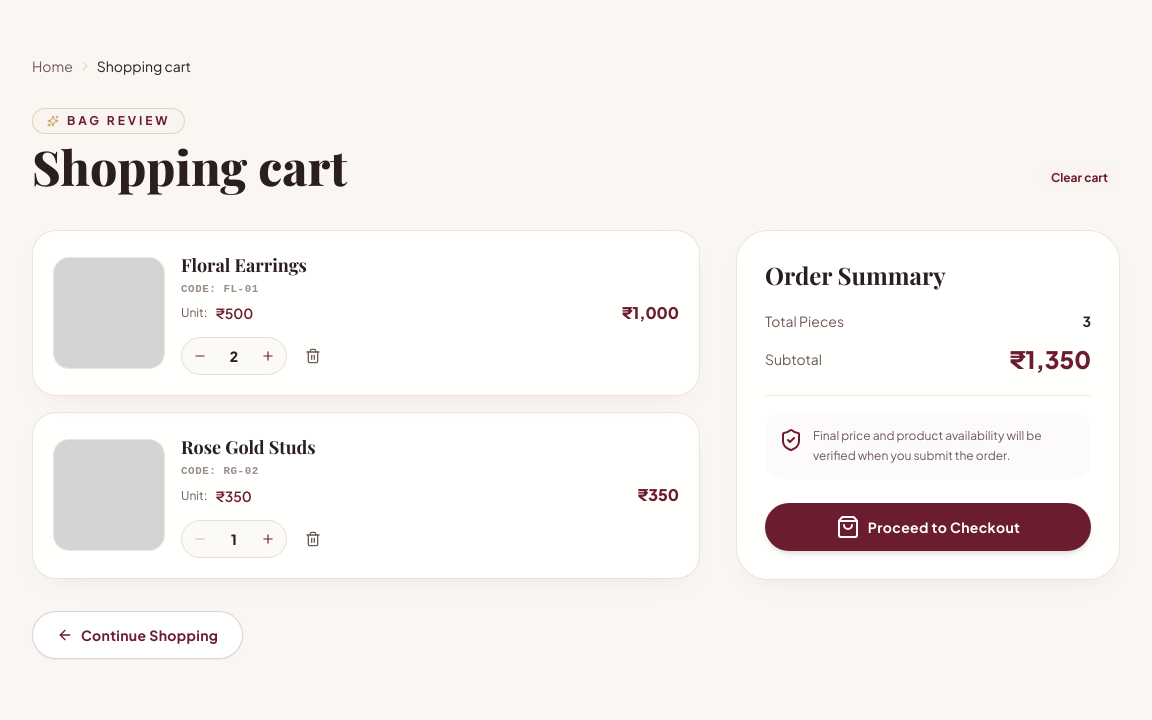
Scenario: CartPage › confirms before clearing complete cart
This screenshot has width=1152, height=720.
Expected: the link "Floral Earrings" is shown, x1=181 y1=253 x2=307 y2=277
Click the button with aria-label "Clear complete cart".
click(1079, 178)  # box x1=1039 y1=166 x2=1120 y2=190
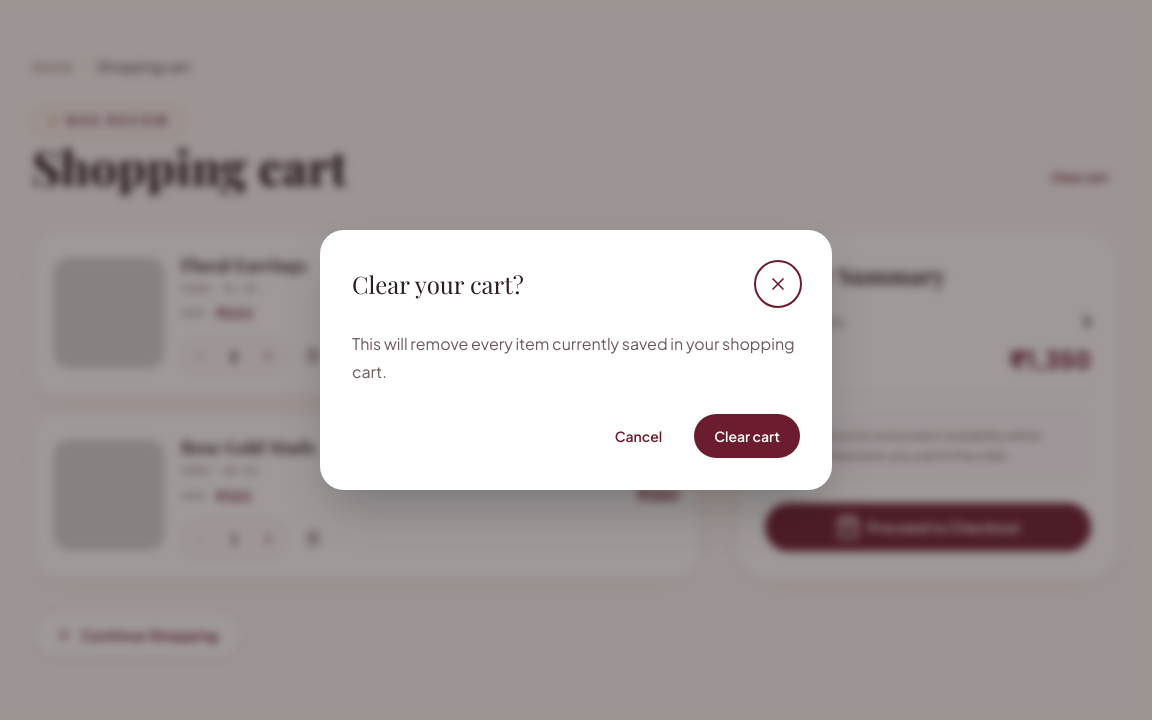
Expected: the heading "Clear your cart?" is shown, x1=352 y1=268 x2=524 y2=300
Confirm clearing
Click the button "Clear cart".
click(747, 436)  # box x1=694 y1=414 x2=800 y2=458
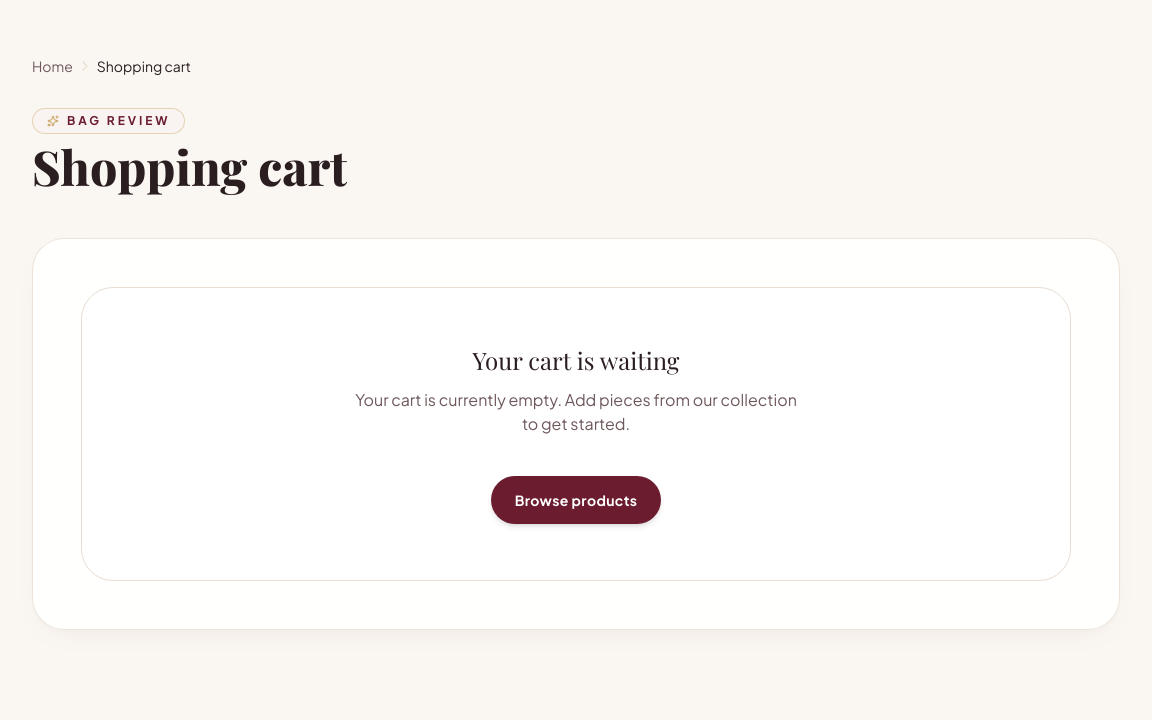
Expected: the heading "Your cart is waiting" is shown, x1=472 y1=344 x2=679 y2=376
